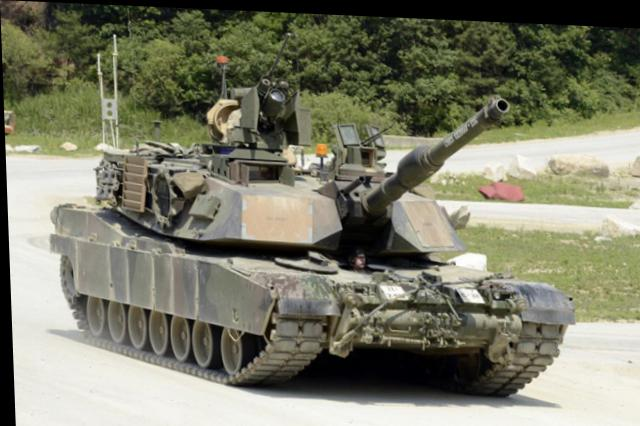tank: (35, 59, 574, 399)
